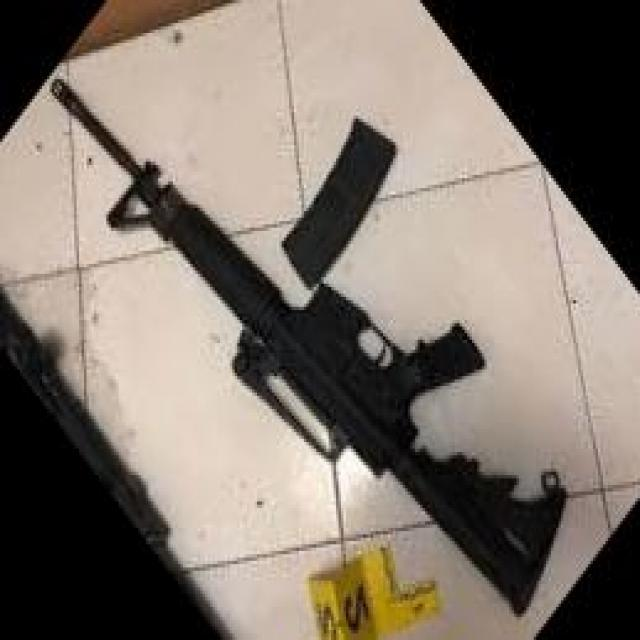weapon: (51, 75, 569, 618)
